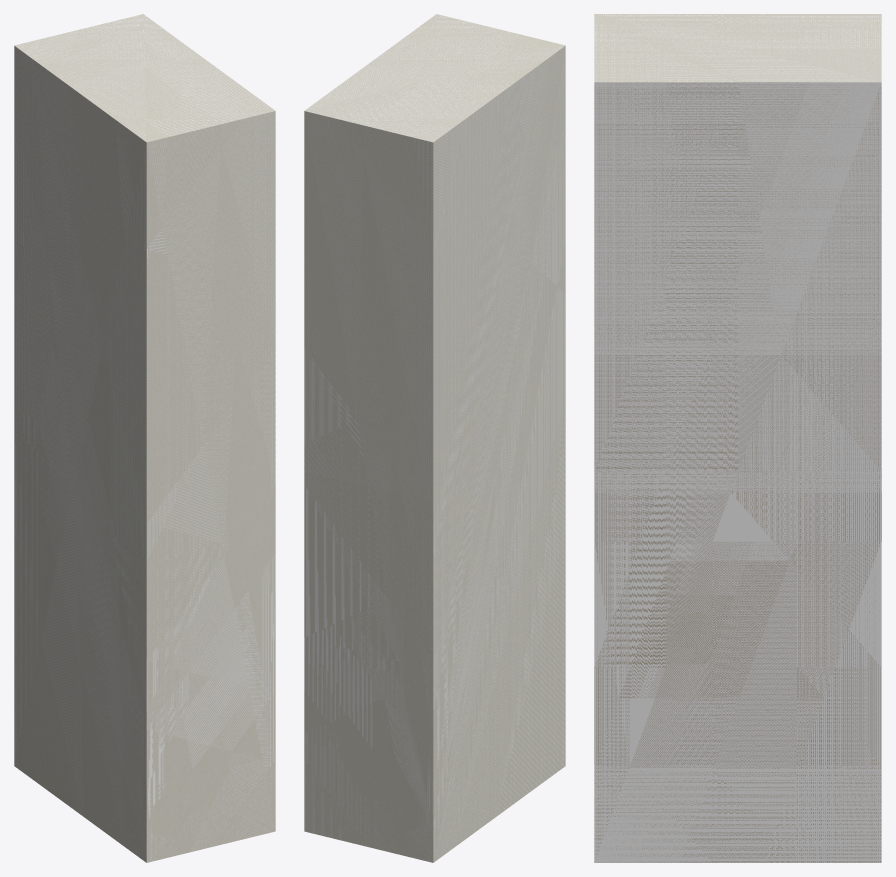
File: cabinet_ikea_galant1d20d80d8.obj
3 renders of one model, left to right at view 1: azimuth 30°, elevation 25°; view 2: azimuth 150°, elevation 25°; view 3: azimuth 270°, elevation 25°, orthographic. The views are drawn at different scales.
Visible parts, largest first — view 1: cabinet_ikea_galant1d20d80d8; view 2: cabinet_ikea_galant1d20d80d8; view 3: cabinet_ikea_galant1d20d80d8.
Part boxes in pixels (x1,y1,x2,y2): cabinet_ikea_galant1d20d80d8: (14,14,275,862); cabinet_ikea_galant1d20d80d8: (304,14,565,862); cabinet_ikea_galant1d20d80d8: (594,14,881,862).
Bounding box in the file's own units: 0.3602 × 1.92 × 0.6396.
Materials: 3 (2 with a texture image).
